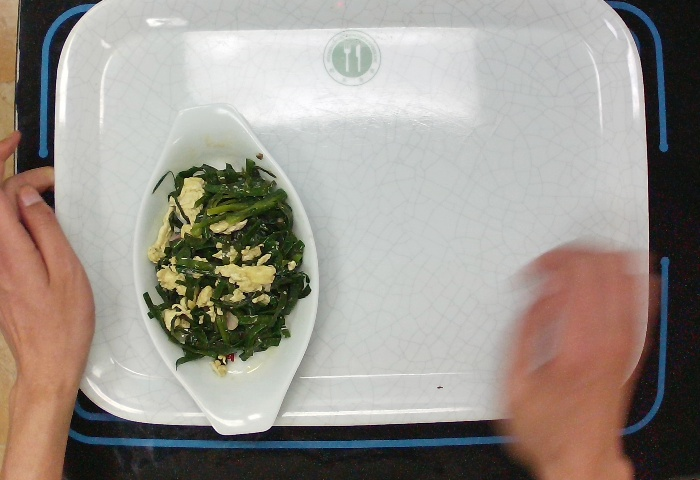JYsf-Yu_Pan: (130, 100, 322, 438)
